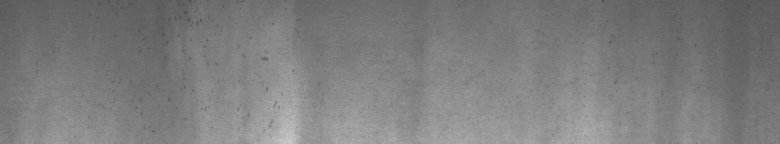ib: (169, 4, 280, 128)
